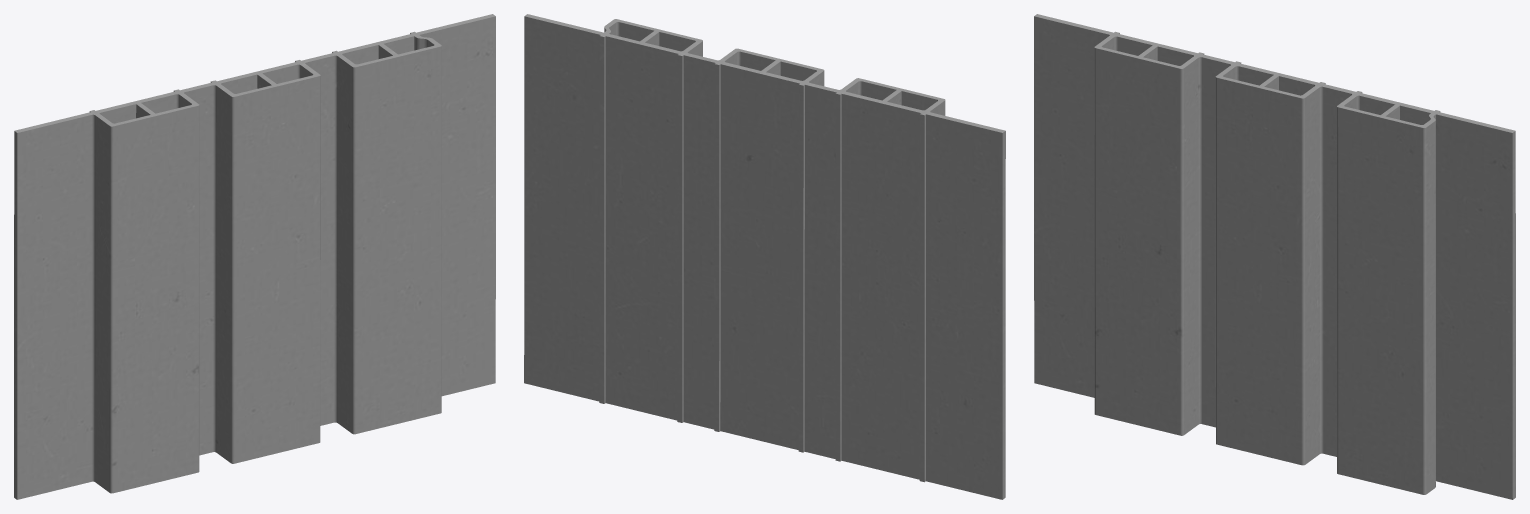
File: ucluhampanel.glb
3 views of the same model, side by side, from view 1: azimuth 30°, elevation 25°; view 2: azimuth 150°, elevation 25°; view 3: azimuth 330°, elevation 25° (orthographic).
Parts seen in each view (by area): view 1: Plane.007; view 2: Plane.007; view 3: Plane.007.
Boxes of the visible parts, x1,y1,x2,y2 form: Plane.007: (14,14,495,499); Plane.007: (524,14,1005,499); Plane.007: (1034,14,1515,499).
Size of the model in its own units: 10.06 by 7.37 by 0.7962.
1 material, 1 textured.
